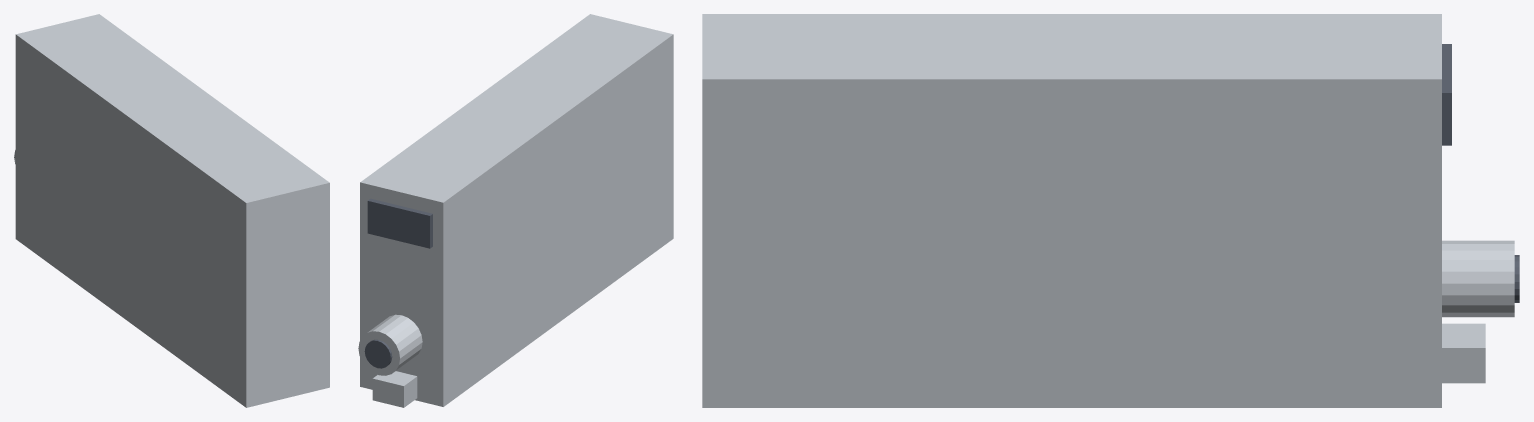
File: oband-head-interface.glb
3 renders of one model, left to right at view 1: azimuth 30°, elevation 25°; view 2: azimuth 150°, elevation 25°; view 3: azimuth 270°, elevation 25°, orthographic. The views are drawn at different scales.
Visible parts, largest first — view 1: silver compact interface body, silver front panel; view 2: silver compact interface body, silver front panel, black model nameplate, silver head cable connector, silver extraction latch, black electrical socket; view 3: silver compact interface body, silver front panel, silver head cable connector, silver extraction latch, black model nameplate.
Part boxes in pixels (left/top/right/bottom): silver compact interface body: left=20, top=17, right=329, bottom=407; silver front panel: left=15, top=14, right=103, bottom=241; silver compact interface body: left=365, top=14, right=673, bottom=403; silver front panel: left=360, top=179, right=447, bottom=406; black model nameplate: left=367, top=198, right=432, bottom=248; silver head cable connector: left=358, top=314, right=422, bottom=375; silver extraction latch: left=372, top=371, right=417, bottom=407; black electrical socket: left=364, top=339, right=392, bottom=368; silver compact interface body: left=702, top=14, right=1427, bottom=407; silver front panel: left=1427, top=14, right=1441, bottom=407; silver head cable connector: left=1442, top=240, right=1514, bottom=317; silver extraction latch: left=1442, top=323, right=1485, bottom=383; black model nameplate: left=1442, top=44, right=1451, bottom=145.
Size of the model in its own units: 0.032 by 0.075 by 0.169.
